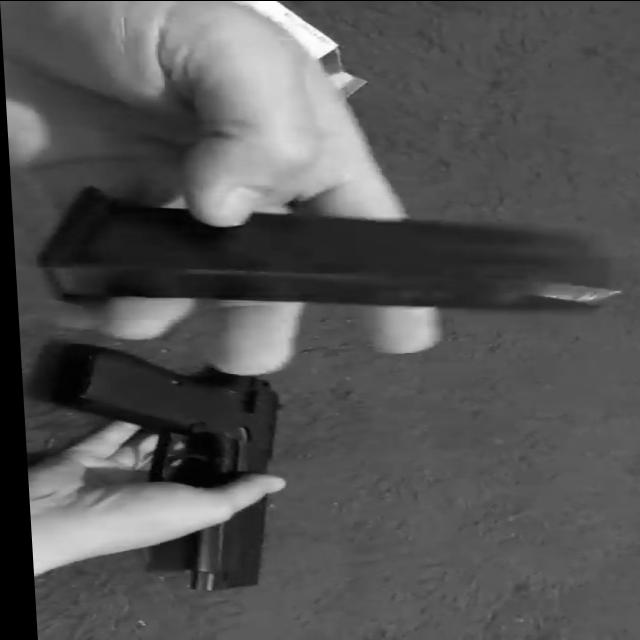handgun: (37, 336, 279, 596)
